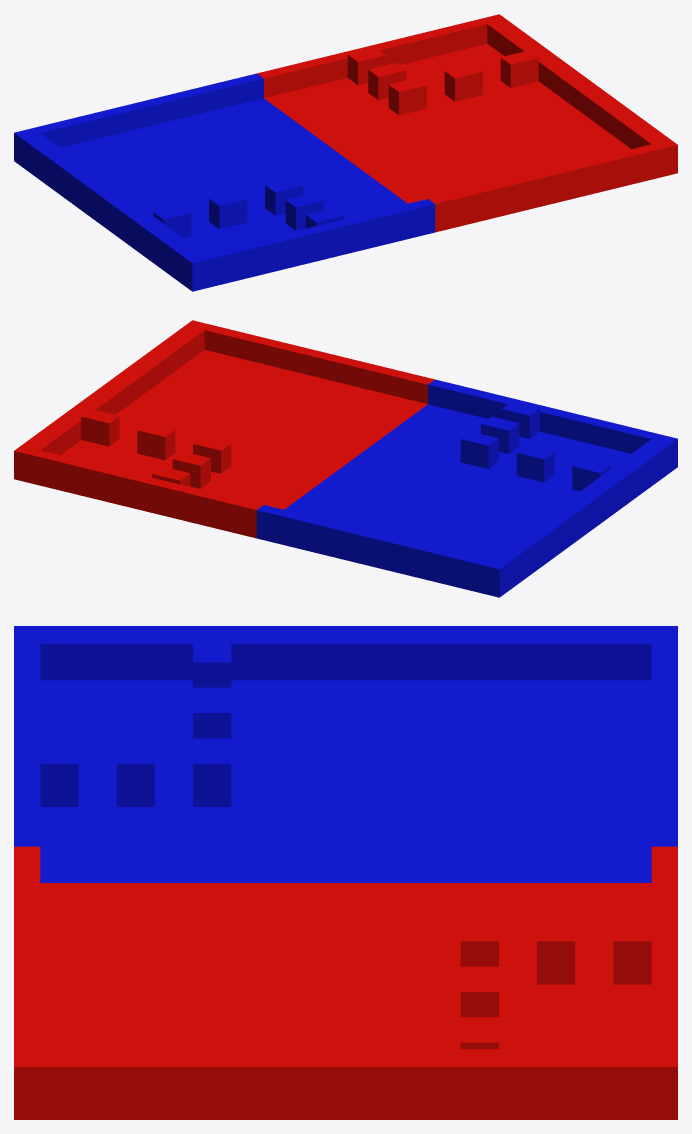
File: CTF.fbx
3 renders of one model, top to bottom at view 1: azimuth 30°, elevation 25°; view 2: azimuth 150°, elevation 25°; view 3: azimuth 270°, elevation 25°, orthographic. The views are drawn at different scales.
Parts seen in each view (by area): view 1: Cube; view 2: Cube; view 3: Cube.
Part boxes in pixels (<box>): Cube: <box>14,14,677,291</box>; Cube: <box>14,320,677,597</box>; Cube: <box>14,626,677,1119</box>.
Size of the model in its own units: 11580 by 731 by 7371.
